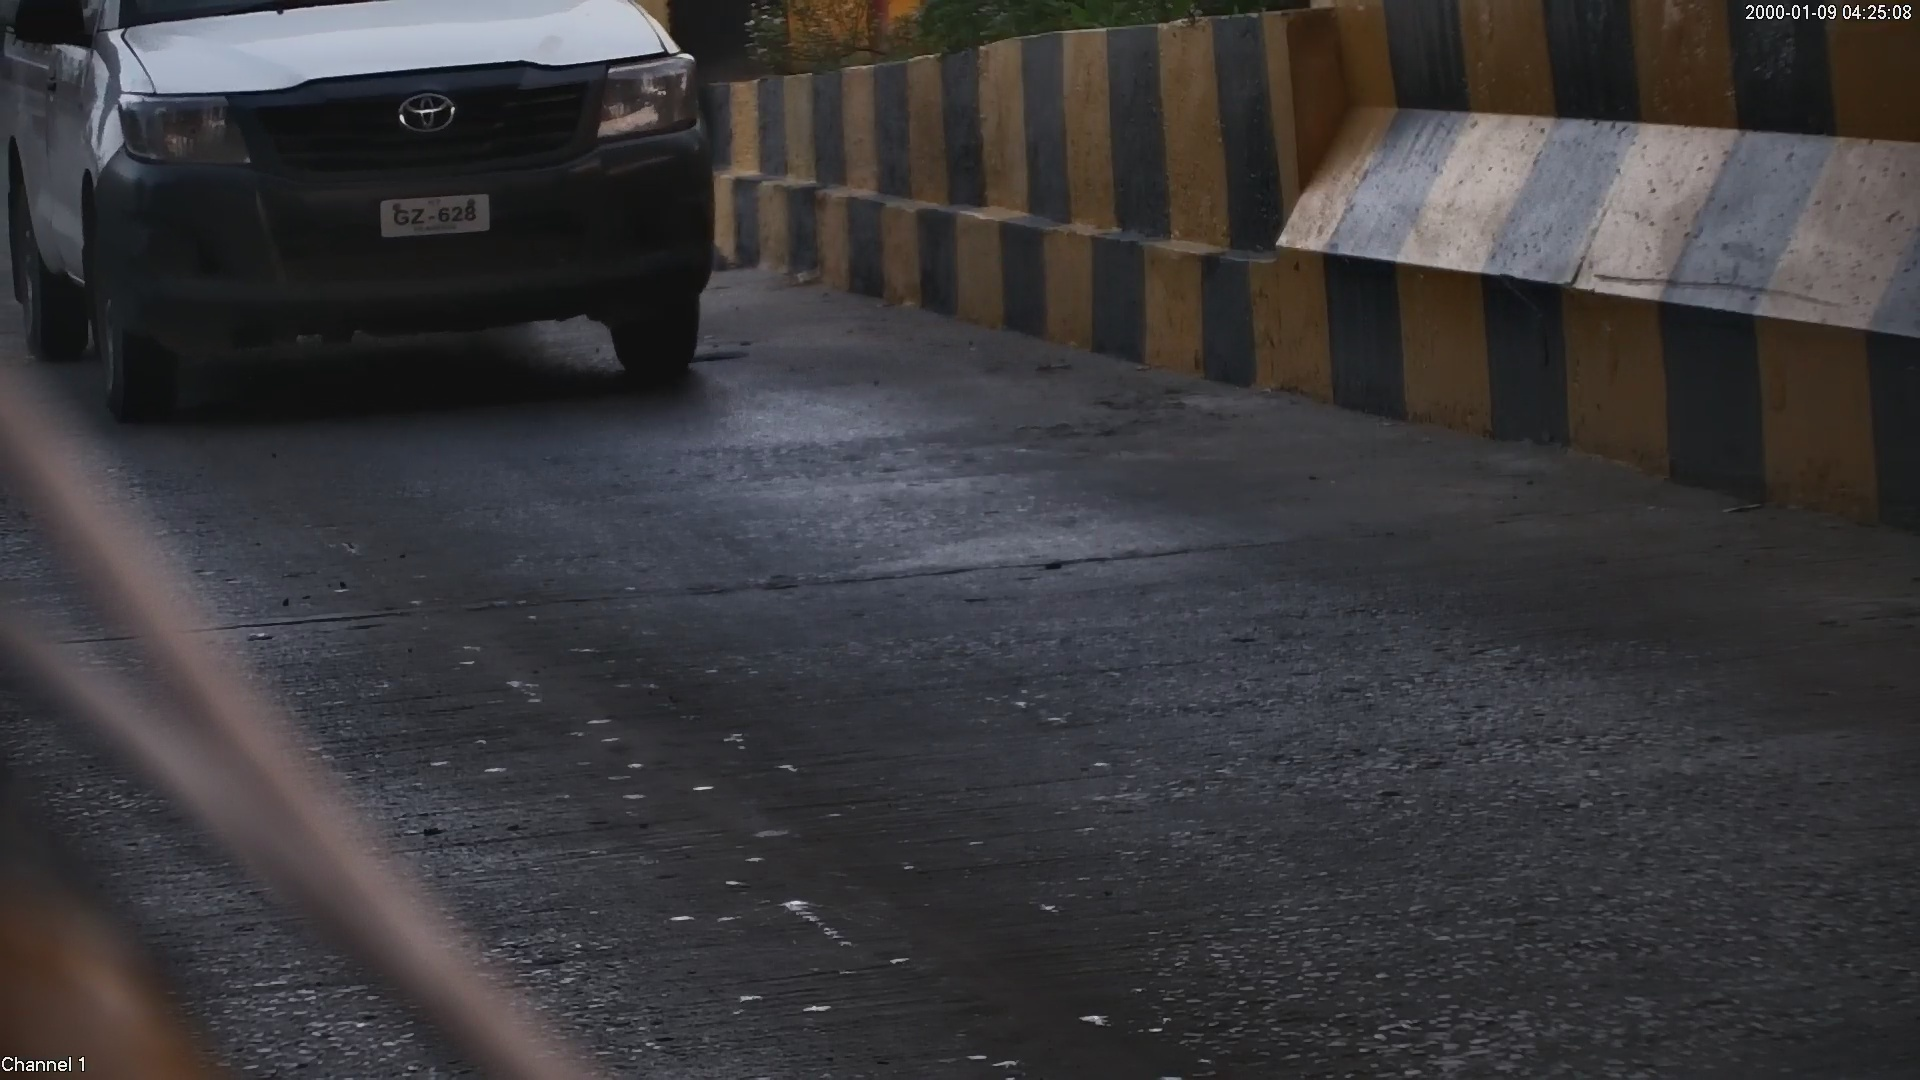Number_Plate: (360, 188, 506, 240)
